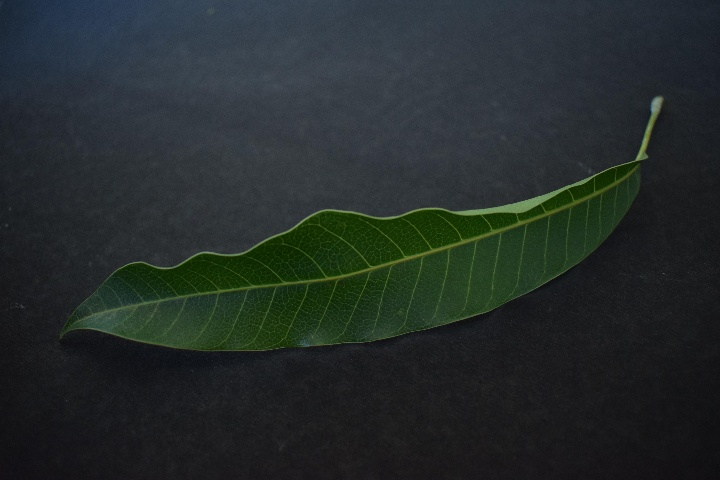healthy: (41, 154, 676, 354)
